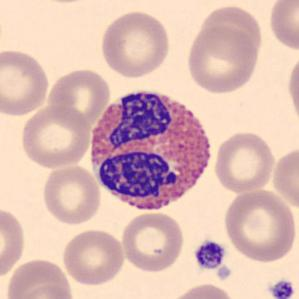Eosinophil: (84, 81, 218, 218)
Platelets: (192, 238, 227, 271), (267, 277, 296, 299), (215, 264, 233, 282)
RBC: (221, 186, 297, 264), (184, 21, 262, 95), (98, 8, 172, 79), (18, 104, 92, 170), (119, 210, 186, 274), (212, 128, 276, 194), (46, 66, 112, 127), (40, 163, 102, 227), (60, 227, 126, 287), (200, 4, 265, 64), (0, 47, 51, 117), (4, 256, 76, 299), (0, 204, 28, 281), (270, 144, 298, 213), (266, 0, 299, 53), (168, 281, 237, 299), (285, 49, 299, 127), (18, 282, 74, 299)
